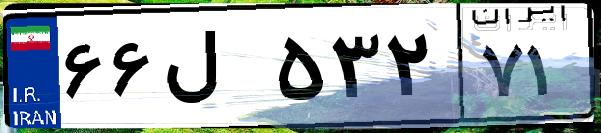1: (525, 38, 570, 115)
2: (385, 28, 445, 110)
3: (330, 28, 385, 110)
5: (270, 28, 330, 110)
6: (57, 26, 110, 100), (110, 28, 158, 98)
7: (475, 38, 525, 113)
ل: (158, 20, 270, 120)
